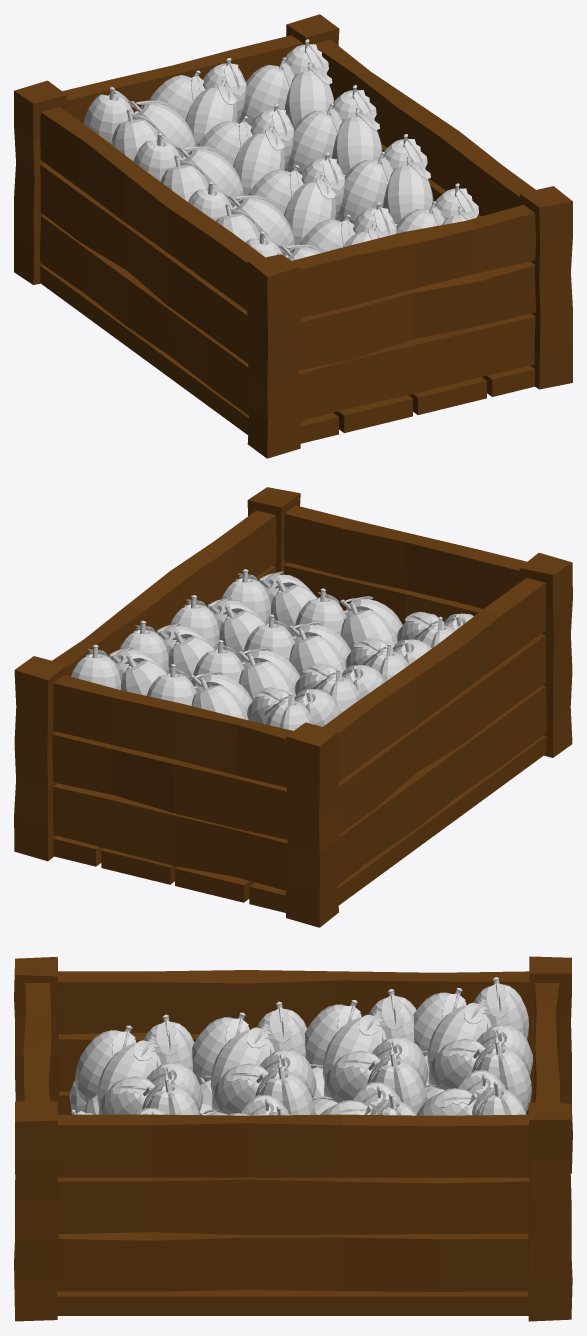
The model's file is blommekasse.fbx.
3 views of the same model, one above another, from view 1: azimuth 30°, elevation 25°; view 2: azimuth 150°, elevation 25°; view 3: azimuth 270°, elevation 25° (orthographic). The views are drawn at different scales.
Visible parts, largest first — view 1: Plane.068, Cube.022, Cube.011, Cube.012, Cube.013, Cube.021, Cube.020, Cube.014, Cube.010, Cube.004, Cube.006, Cube.003 (+5 smaller); view 2: Plane.068, Cube.022, Cube.017, Cube.011, Cube.018, Cube.019, Cube.021, Cube.020, Cube.006, Cube.010, Cube.005, Cube.014 (+6 smaller); view 3: Plane.068, Cube.010, Cube.008, Cube.009, Cube.022, Cube.002, Cube.004, Cube.005, Cube.014, Cube.006, Cube.011, Cube.017 (+1 smaller).
Boxes of the visible parts, x1=… form: Plane.068: x1=83, y1=39, x2=478, y2=260; Cube.022: x1=40, y1=107, x2=264, y2=310; Cube.011: x1=292, y1=205, x2=535, y2=317; Cube.012: x1=299, y1=261, x2=535, y2=370; Cube.013: x1=298, y1=313, x2=535, y2=421; Cube.021: x1=40, y1=163, x2=248, y2=363; Cube.020: x1=40, y1=215, x2=249, y2=415; Cube.014: x1=247, y1=254, x2=300, y2=458; Cube.010: x1=312, y1=39, x2=535, y2=216; Cube.004: x1=520, y1=186, x2=572, y2=389; Cube.006: x1=14, y1=80, x2=66, y2=284; Cube.003: x1=40, y1=265, x2=338, y2=443; Plane.068: x1=71, y1=569, x2=473, y2=730; Cube.022: x1=323, y1=578, x2=545, y2=781; Cube.017: x1=53, y1=675, x2=292, y2=787; Cube.011: x1=284, y1=505, x2=526, y2=608; Cube.018: x1=52, y1=732, x2=287, y2=839; Cube.019: x1=53, y1=783, x2=287, y2=890; Cube.021: x1=339, y1=634, x2=545, y2=833; Cube.020: x1=337, y1=685, x2=546, y2=885; Cube.006: x1=285, y1=722, x2=339, y2=927; Cube.010: x1=52, y1=510, x2=276, y2=676; Cube.005: x1=14, y1=656, x2=67, y2=861; Cube.014: x1=519, y1=552, x2=572, y2=757; Plane.068: x1=69, y1=977, x2=533, y2=1115; Cube.010: x1=57, y1=1114, x2=530, y2=1177; Cube.008: x1=56, y1=1232, x2=528, y2=1291; Cube.009: x1=58, y1=1177, x2=529, y2=1234; Cube.022: x1=56, y1=970, x2=530, y2=1034; Cube.002: x1=57, y1=1290, x2=528, y2=1315; Cube.004: x1=14, y1=1101, x2=59, y2=1321; Cube.005: x1=528, y1=1102, x2=572, y2=1321; Cube.014: x1=14, y1=956, x2=59, y2=1174; Cube.006: x1=529, y1=956, x2=572, y2=1173; Cube.011: x1=23, y1=983, x2=51, y2=1101; Cube.017: x1=535, y1=983, x2=560, y2=1103.
Bounding box in the file's own units: 465 × 284 × 667.
